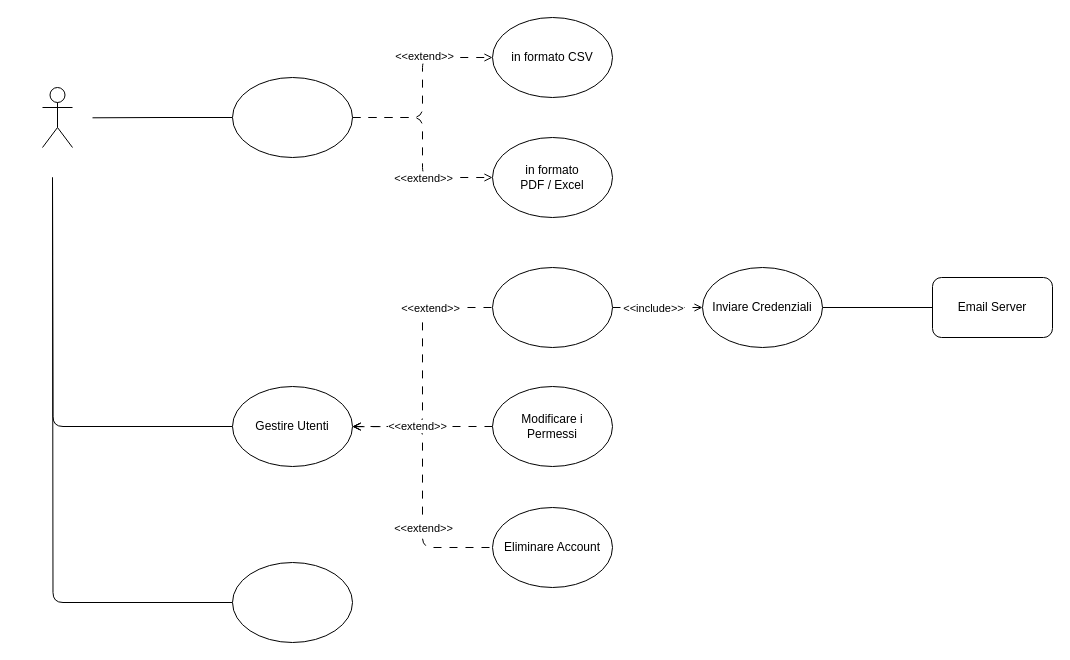
The diagram is 1070 pixels wide and 660 high, and some of its shapes have lost their labels. The shapes that lost their labels are listed below. From the top down, each one's centre as x and y in pixels, then its label:
At point 57,117: "Amministratore".
At point 292,117: "Esportare Dati".
At point 552,307: "Creare nuovo Operatore".
At point 292,602: "Visualizzare Analisi Comparative".
